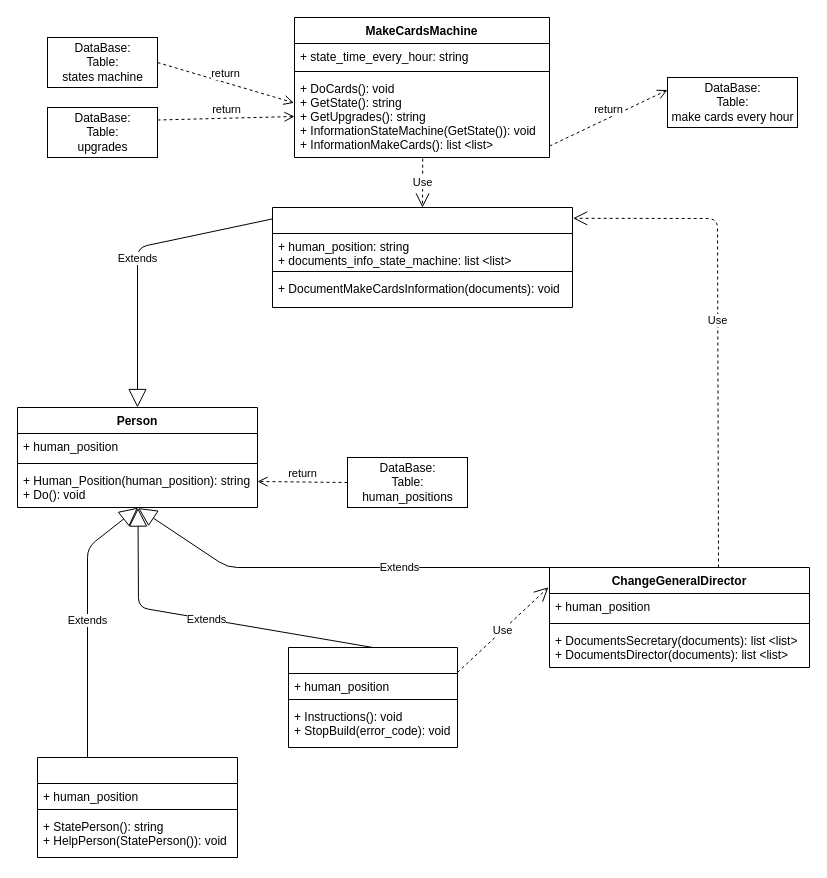
This 827x878 diagram has some shape labels left out. The shapes that lost their labels are listed below. From the top down, each one's box as (x1, y1, x2, y2) in pixels, then its label:
(272, 206, 572, 308): Secretary
(288, 646, 458, 748): GeneralDirector
(36, 756, 238, 858): Mediciners
